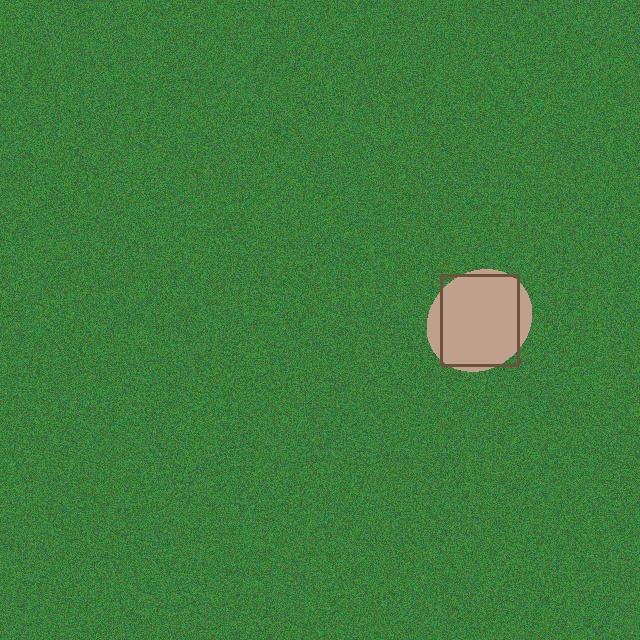corn borer: (431, 265, 528, 375)
